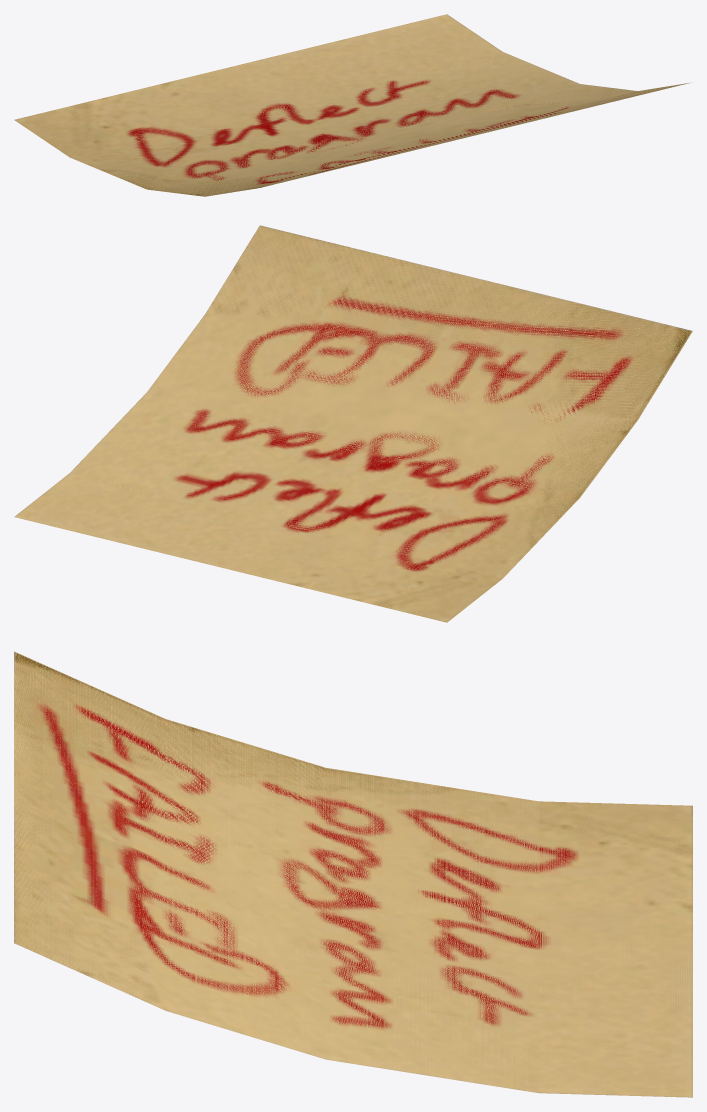
Rendered from notes_mission_aborted_07.dae.
3 views of the same model, one above another, from view 1: azimuth 30°, elevation 25°; view 2: azimuth 150°, elevation 25°; view 3: azimuth 270°, elevation 25° (orthographic). The views are drawn at different scales.
Visible parts, largest first — view 1: postit_failed; view 2: postit_failed; view 3: postit_failed.
Boxes of the visible parts, <box> form: postit_failed: <box>14,14,690,196</box>; postit_failed: <box>14,225,692,622</box>; postit_failed: <box>14,651,692,1097</box>.
Size of the model in its own units: 0.125 by 0.0308 by 0.1229.
